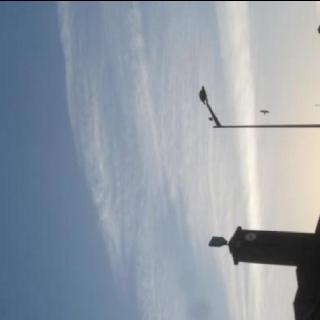Contrails: (1, 0, 304, 320)
